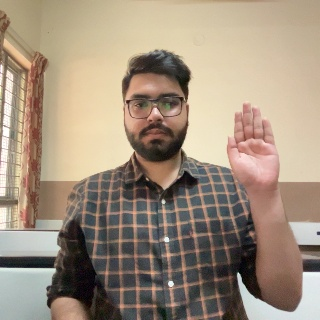Face: (122, 55, 188, 160)
Hello: (226, 100, 287, 207)
